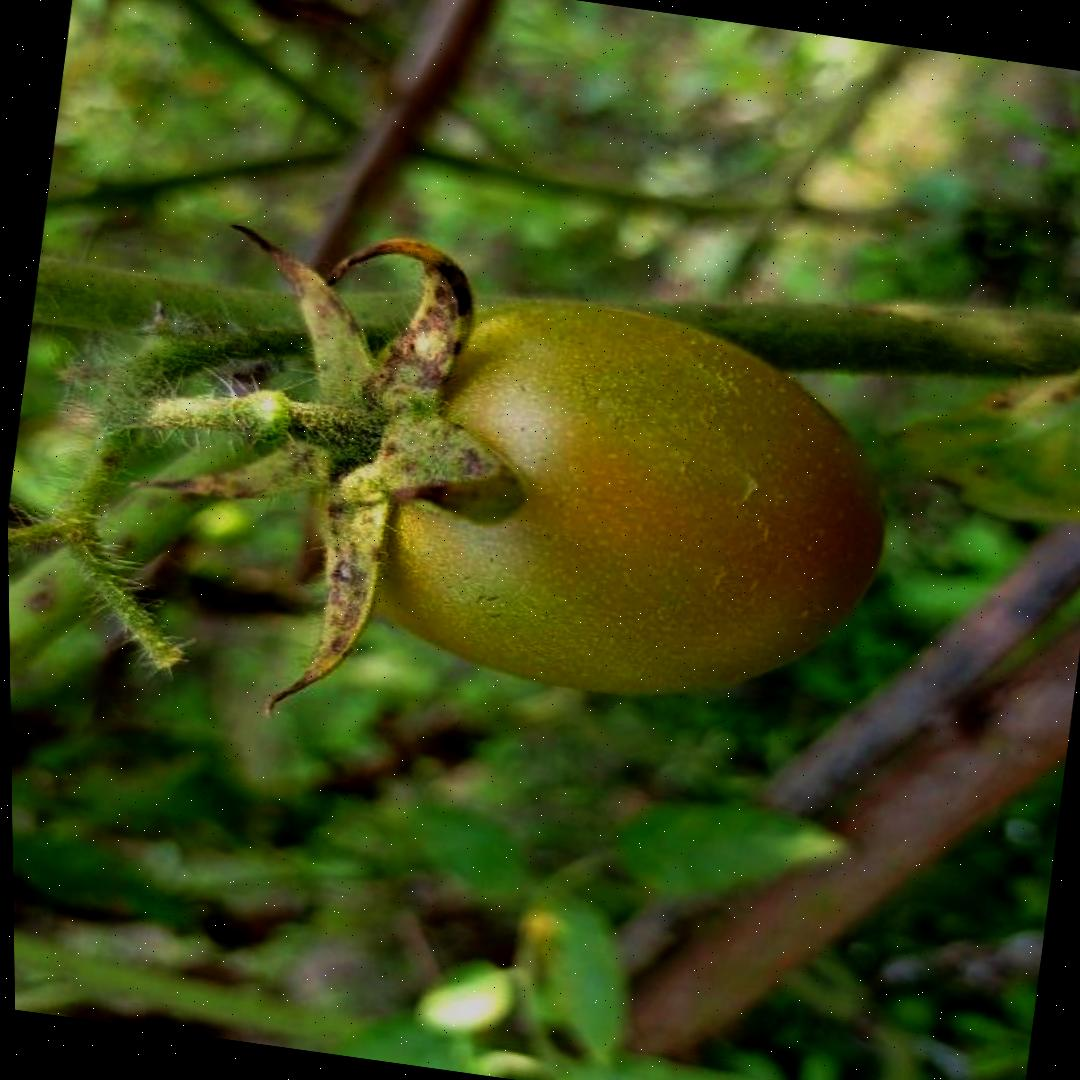setengah_matang: (289, 266, 917, 734)
